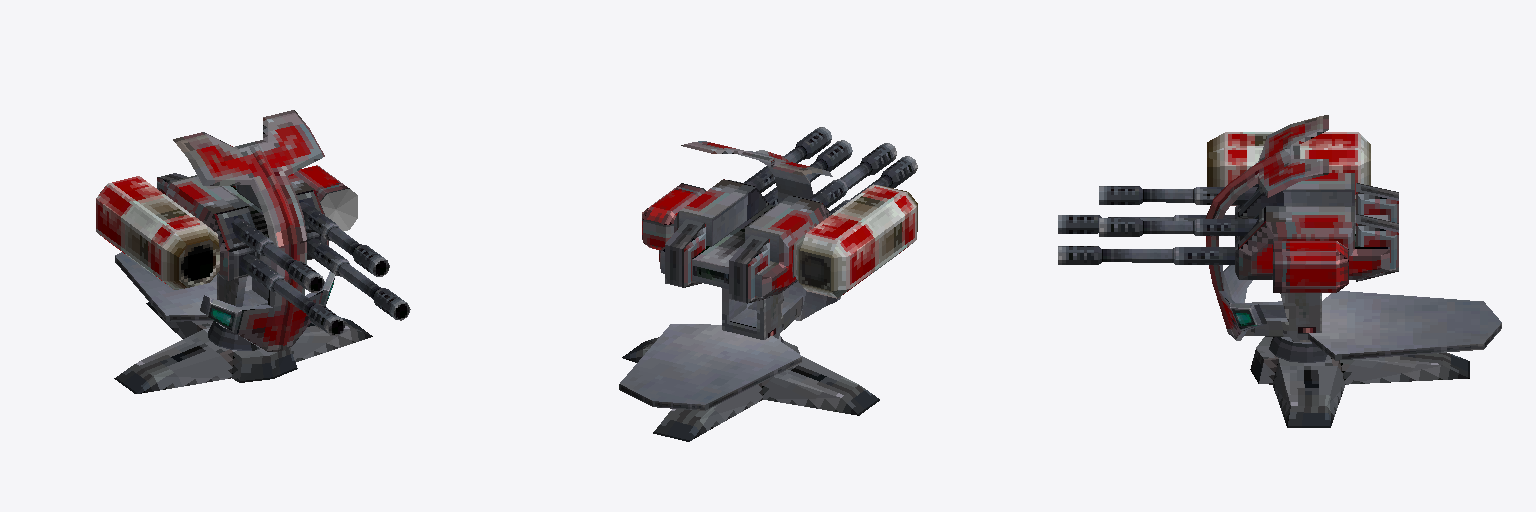
The picture shows the model from 3 angles: view 1: azimuth 30°, elevation 25°; view 2: azimuth 150°, elevation 25°; view 3: azimuth 270°, elevation 25°; orthographic projection.
Visible parts, largest first — view 1: Sentry_Mesh_0043.001; view 2: Sentry_Mesh_0043.001; view 3: Sentry_Mesh_0043.001.
Boxes of the visible parts, x1,y1,x2,y2 form: Sentry_Mesh_0043.001: [96, 110, 410, 393]; Sentry_Mesh_0043.001: [619, 127, 917, 441]; Sentry_Mesh_0043.001: [1058, 115, 1501, 427].
Bounding box in the file's own units: 7.97 × 7.1 × 12.68.
Materials: 3 (2 with a texture image).